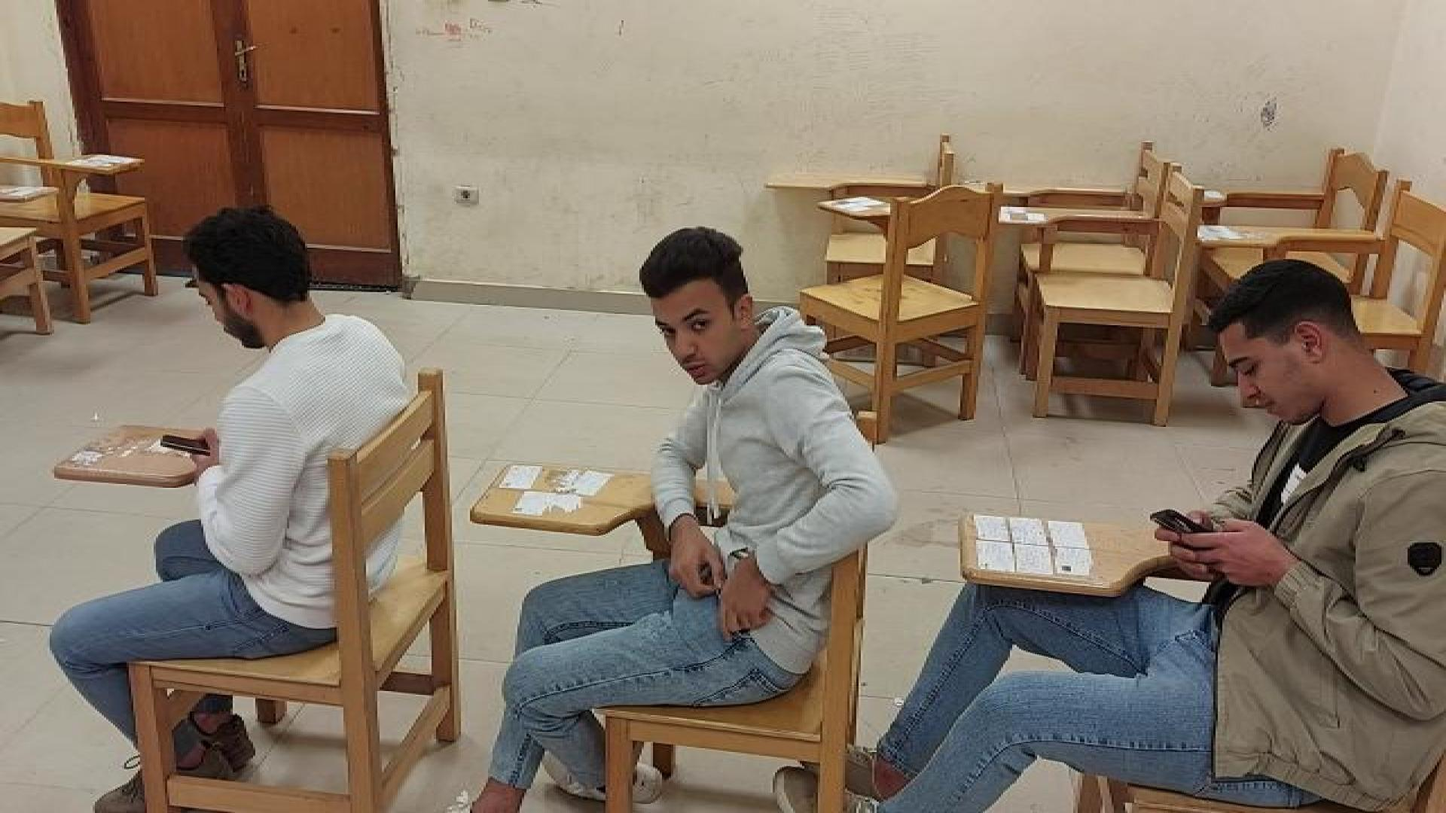phone: (1146, 507, 1204, 539), (158, 432, 212, 457)
